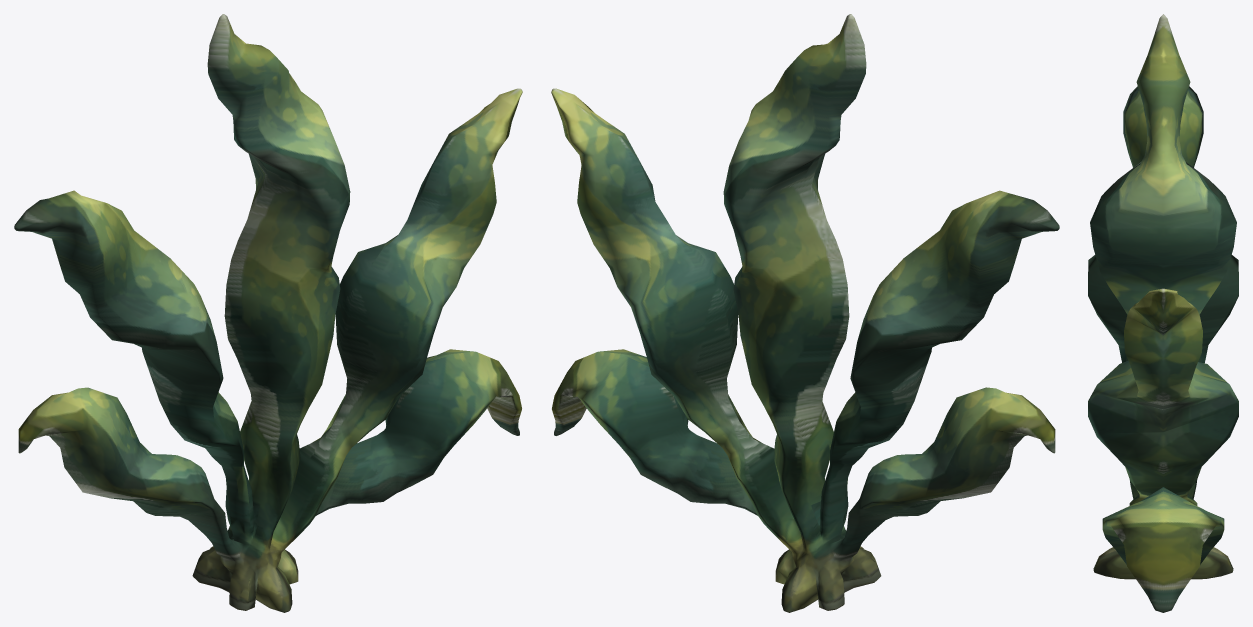
The model's file is seaweed.fbx.
The picture shows the model from 3 angles, left to right: view 1: azimuth 30°, elevation 25°; view 2: azimuth 150°, elevation 25°; view 3: azimuth 270°, elevation 25°; orthographic projection. The views are drawn at different scales.
Parts seen in each view (by area): view 1: seaweed 3d model; view 2: seaweed 3d model; view 3: seaweed 3d model.
Part boxes in pixels (x1,y1,x2,y2): seaweed 3d model: (14, 14, 522, 612); seaweed 3d model: (551, 14, 1059, 612); seaweed 3d model: (1088, 14, 1238, 612).
Size of the model in its own units: 0.9155 by 0.9995 by 0.2495.
Materials: 1 (1 with a texture image).
